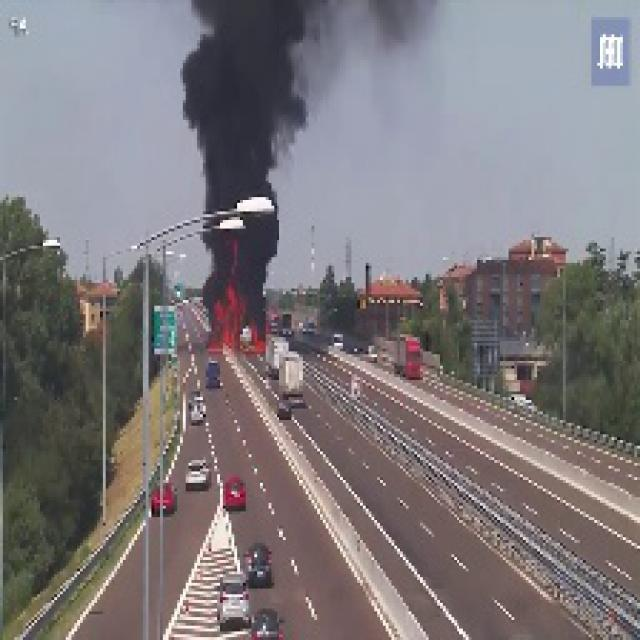fire: (206, 240, 268, 360)
